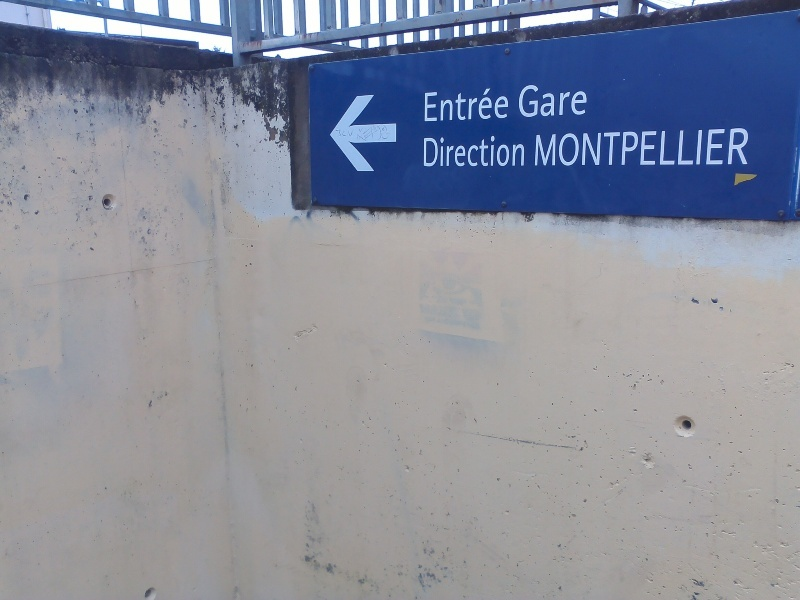text: (545, 127, 560, 167), (561, 127, 576, 167), (577, 127, 592, 167), (593, 127, 608, 167), (609, 127, 624, 167), (625, 127, 640, 167), (641, 127, 656, 167), (657, 127, 672, 167), (673, 127, 688, 167), (689, 127, 704, 167), (705, 127, 720, 167), (721, 127, 736, 167), (433, 87, 448, 122), (449, 87, 464, 122), (465, 87, 480, 122), (481, 87, 496, 122), (497, 87, 512, 122), (737, 127, 750, 167), (529, 85, 544, 118), (545, 85, 560, 118), (561, 85, 576, 118), (433, 135, 448, 168), (449, 135, 464, 168), (465, 135, 480, 168), (481, 135, 496, 168), (497, 135, 512, 168), (513, 135, 527, 168), (577, 85, 589, 118), (536, 127, 544, 167), (519, 85, 528, 118), (423, 135, 432, 168), (425, 87, 432, 122), (369, 126, 384, 142), (357, 126, 368, 142), (337, 130, 352, 137), (385, 126, 390, 142), (335, 130, 336, 137), (353, 130, 354, 137)
